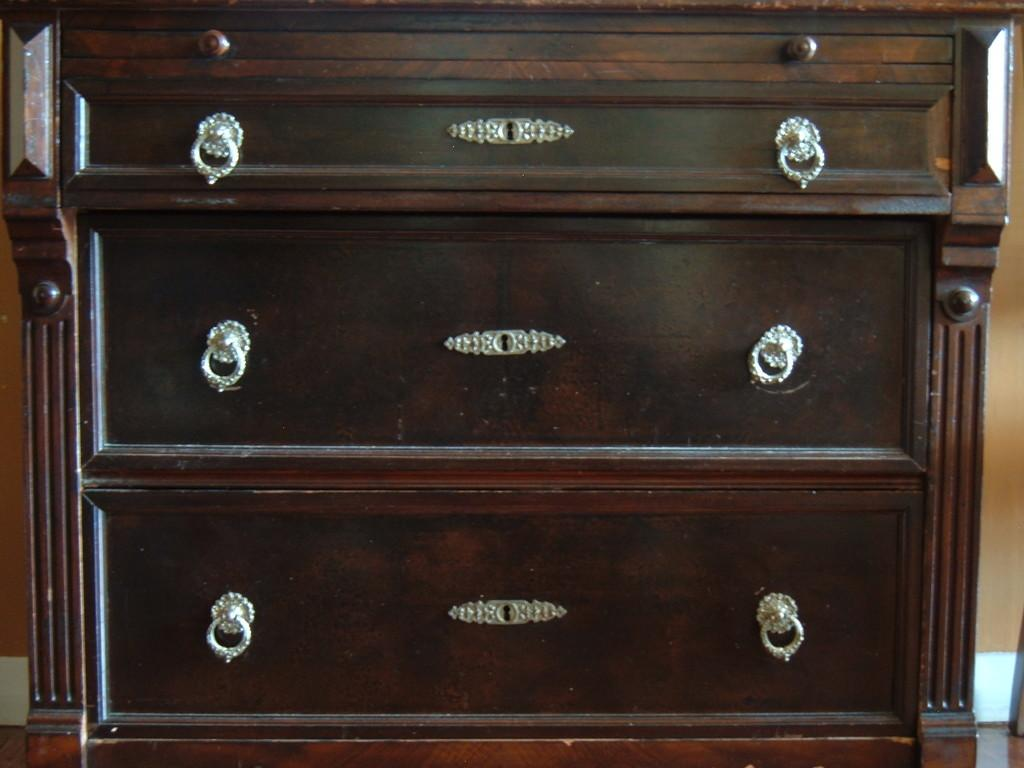cabinet_door: (90, 228, 920, 461), (87, 500, 909, 728), (80, 91, 950, 190)
handle: (740, 588, 818, 674), (184, 321, 255, 395), (199, 584, 263, 666), (194, 110, 252, 191), (748, 330, 814, 394), (776, 122, 831, 193)
